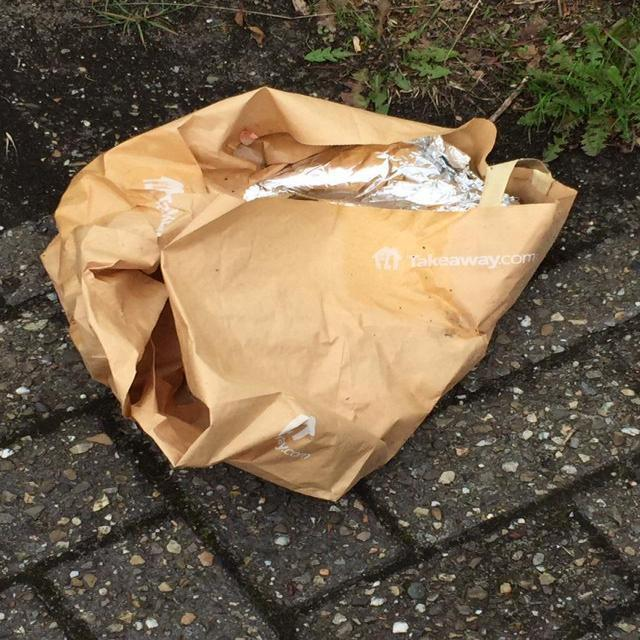Paper: (36, 82, 581, 504)
Plastic: (243, 136, 517, 208)
